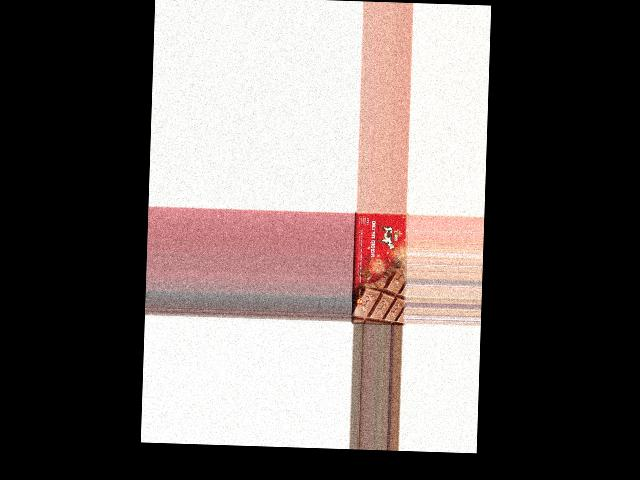chocolate: (351, 210, 408, 325)
